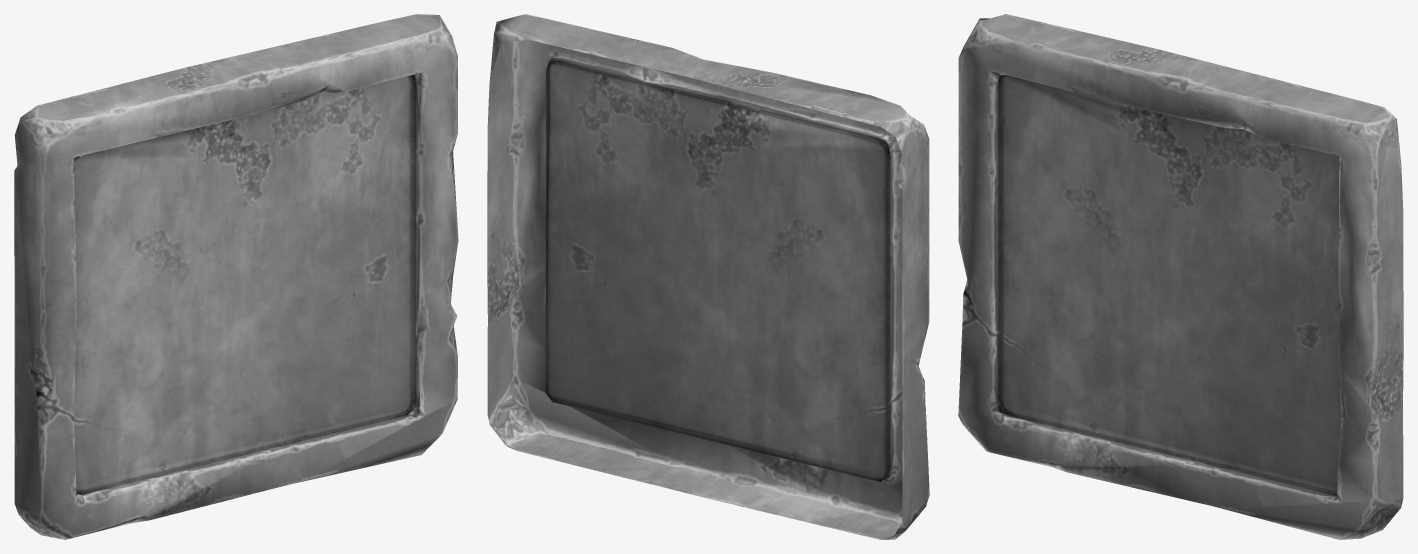
The model's file is SM_TempleTrim_Frame.fbx.
3 renders of one model, left to right at view 1: azimuth 30°, elevation 25°; view 2: azimuth 150°, elevation 25°; view 3: azimuth 330°, elevation 25°, orthographic.
Visible parts, largest first — view 1: SM_TempleTrim_Frame; view 2: SM_TempleTrim_Frame; view 3: SM_TempleTrim_Frame.
Part boxes in pixels (<box>): SM_TempleTrim_Frame: <box>14,14,458,539</box>; SM_TempleTrim_Frame: <box>487,14,929,539</box>; SM_TempleTrim_Frame: <box>958,14,1403,539</box>.
Bounding box in the file's own units: 315 × 302 × 37.28.
Materials: 1 (1 with a texture image).
